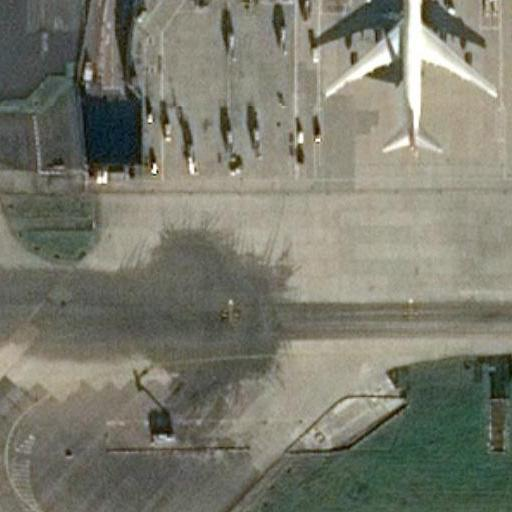Aircraft: (319, 0, 498, 156), (324, 0, 500, 152)
